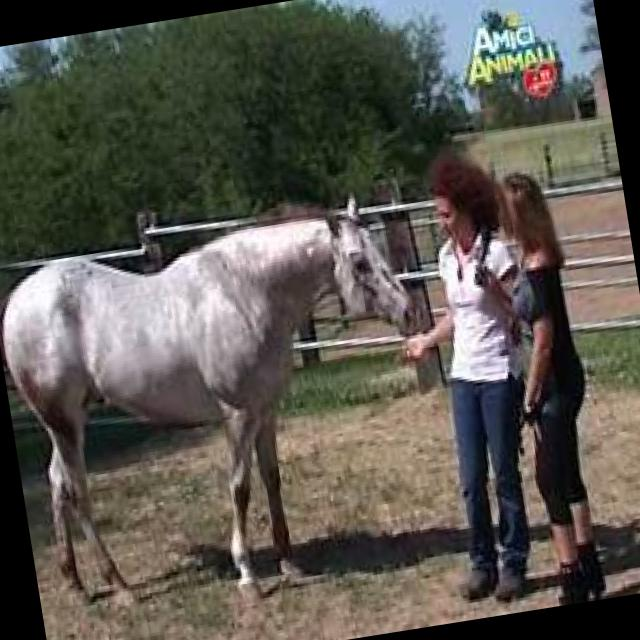animal: (0, 186, 455, 635)
